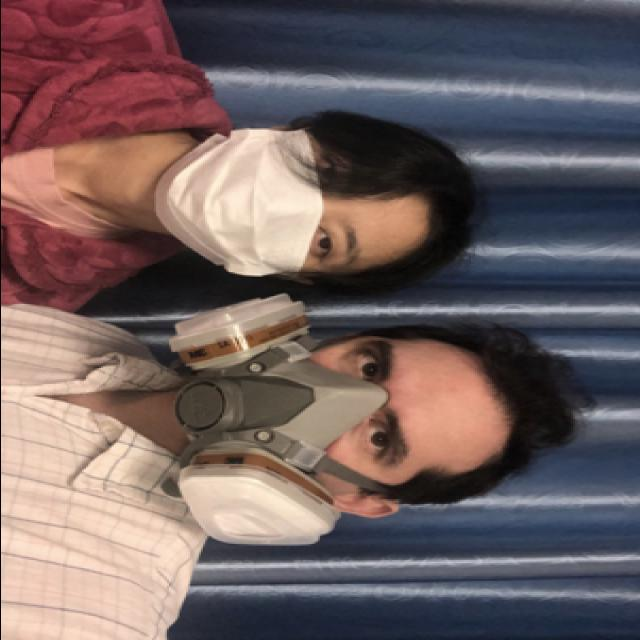with_mask: (166, 336, 417, 494), (156, 128, 368, 278)
